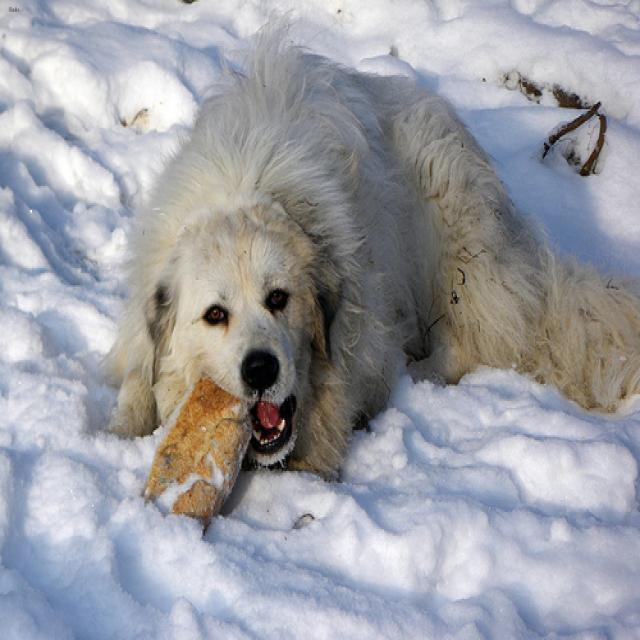dog-great_pyrenees: (88, 2, 637, 492)
